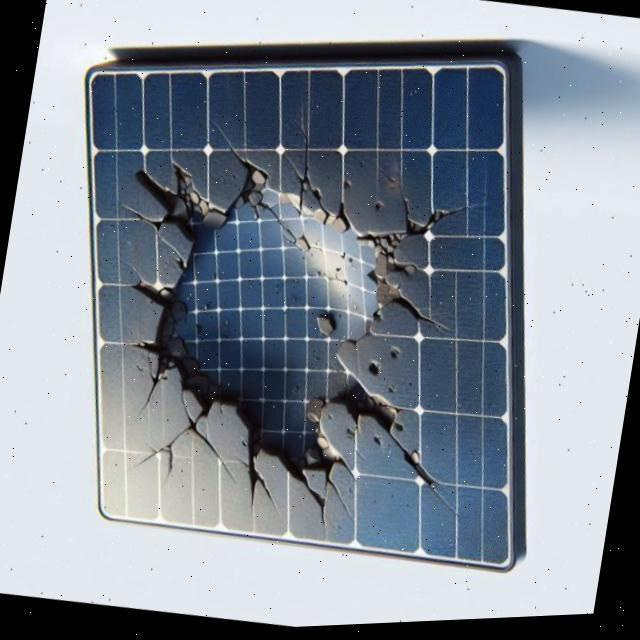Anomaly Solar Panel: (89, 56, 509, 591)
Structural Damage: (68, 137, 457, 528)
